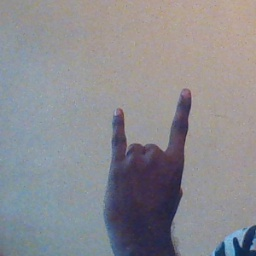V: (100, 83, 195, 237)
